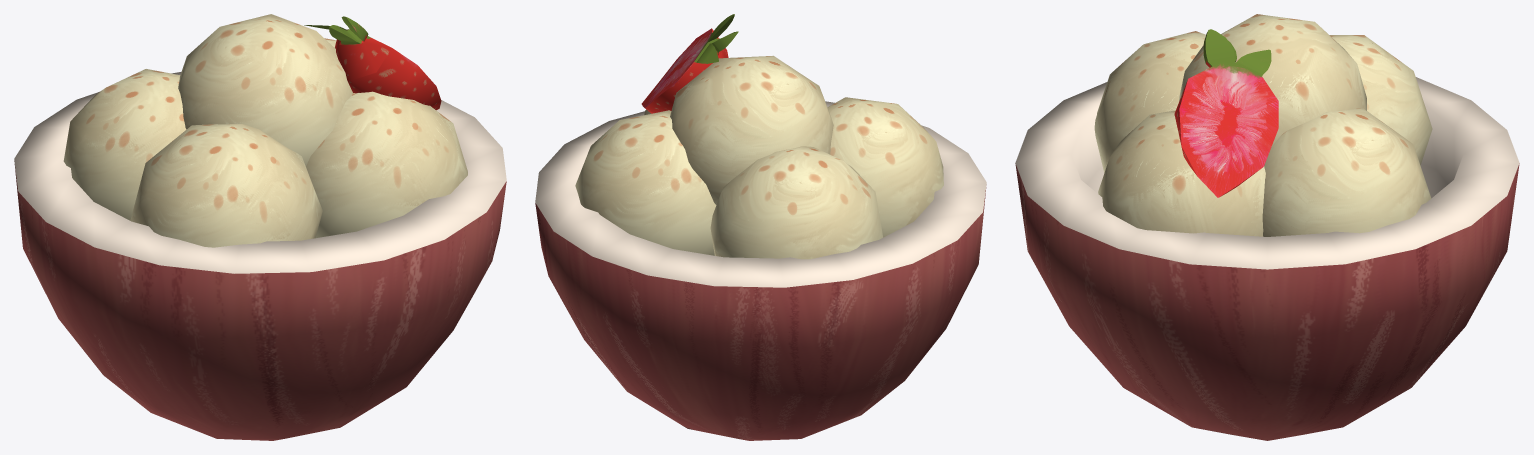
File: coconut_icegream.fbx
3 renders of one model, left to right at view 1: azimuth 30°, elevation 25°; view 2: azimuth 150°, elevation 25°; view 3: azimuth 270°, elevation 25°, orthographic. The views are drawn at different scales.
Parts seen in each view (by area): view 1: b_coconut.001, Icosphere.003, Icosphere; view 2: b_coconut.001, Icosphere.003, Icosphere; view 3: b_coconut.001, Icosphere.003, Icosphere.
Part boxes in pixels (<box>): b_coconut.001: <box>14,72,506,440</box>; Icosphere.003: <box>63,14,467,247</box>; Icosphere: <box>304,16,441,110</box>; b_coconut.001: <box>535,101,986,440</box>; Icosphere.003: <box>575,55,943,259</box>; Icosphere: <box>641,14,738,113</box>; b_coconut.001: <box>1015,77,1519,440</box>; Icosphere.003: <box>1094,14,1432,236</box>; Icosphere: <box>1174,29,1278,197</box>.
Bounding box in the file's own units: 128 × 118 × 128.
8 materials, 7 textured.
